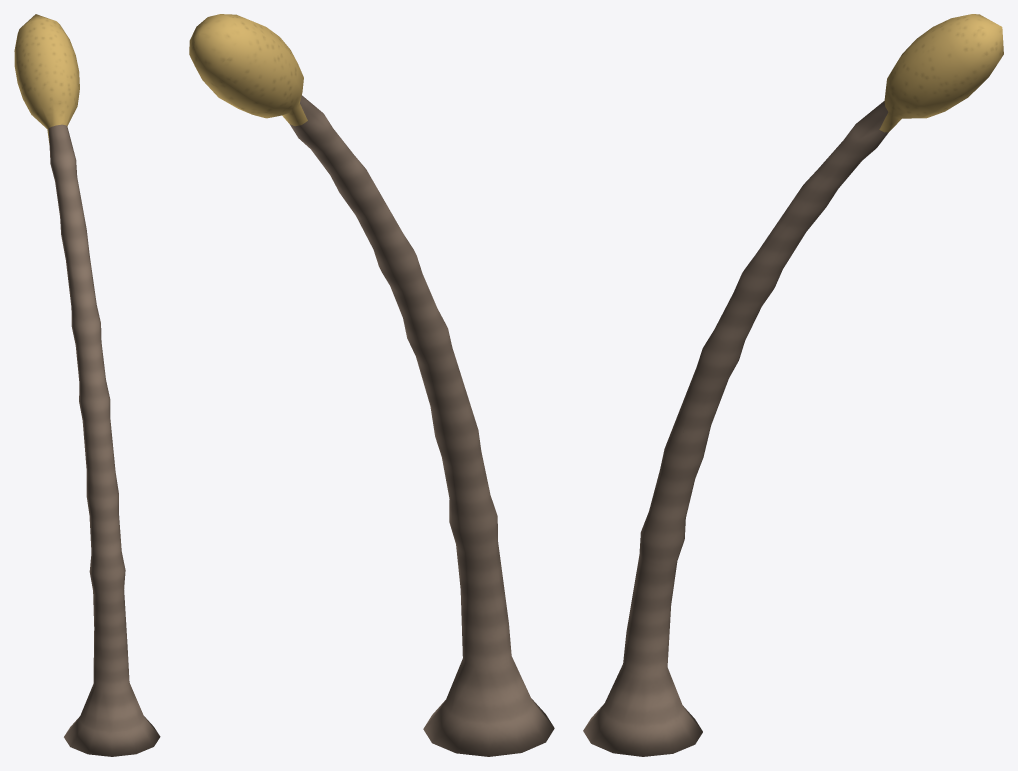
File: cpart_antenna.glb
The picture shows the model from 3 angles, left to right: view 1: azimuth 30°, elevation 25°; view 2: azimuth 150°, elevation 25°; view 3: azimuth 270°, elevation 25°; orthographic projection. The views are drawn at different scales.
Parts seen in each view (by area): view 1: Antenna; view 2: Antenna; view 3: Antenna.
Boxes of the visible parts, bbox=[...] form: Antenna: bbox=[14, 14, 160, 756]; Antenna: bbox=[189, 14, 554, 756]; Antenna: bbox=[583, 14, 1003, 756].
Bounding box in the file's own units: 0.0559 × 0.2543 × 0.1289.
2 materials, 2 textured.
